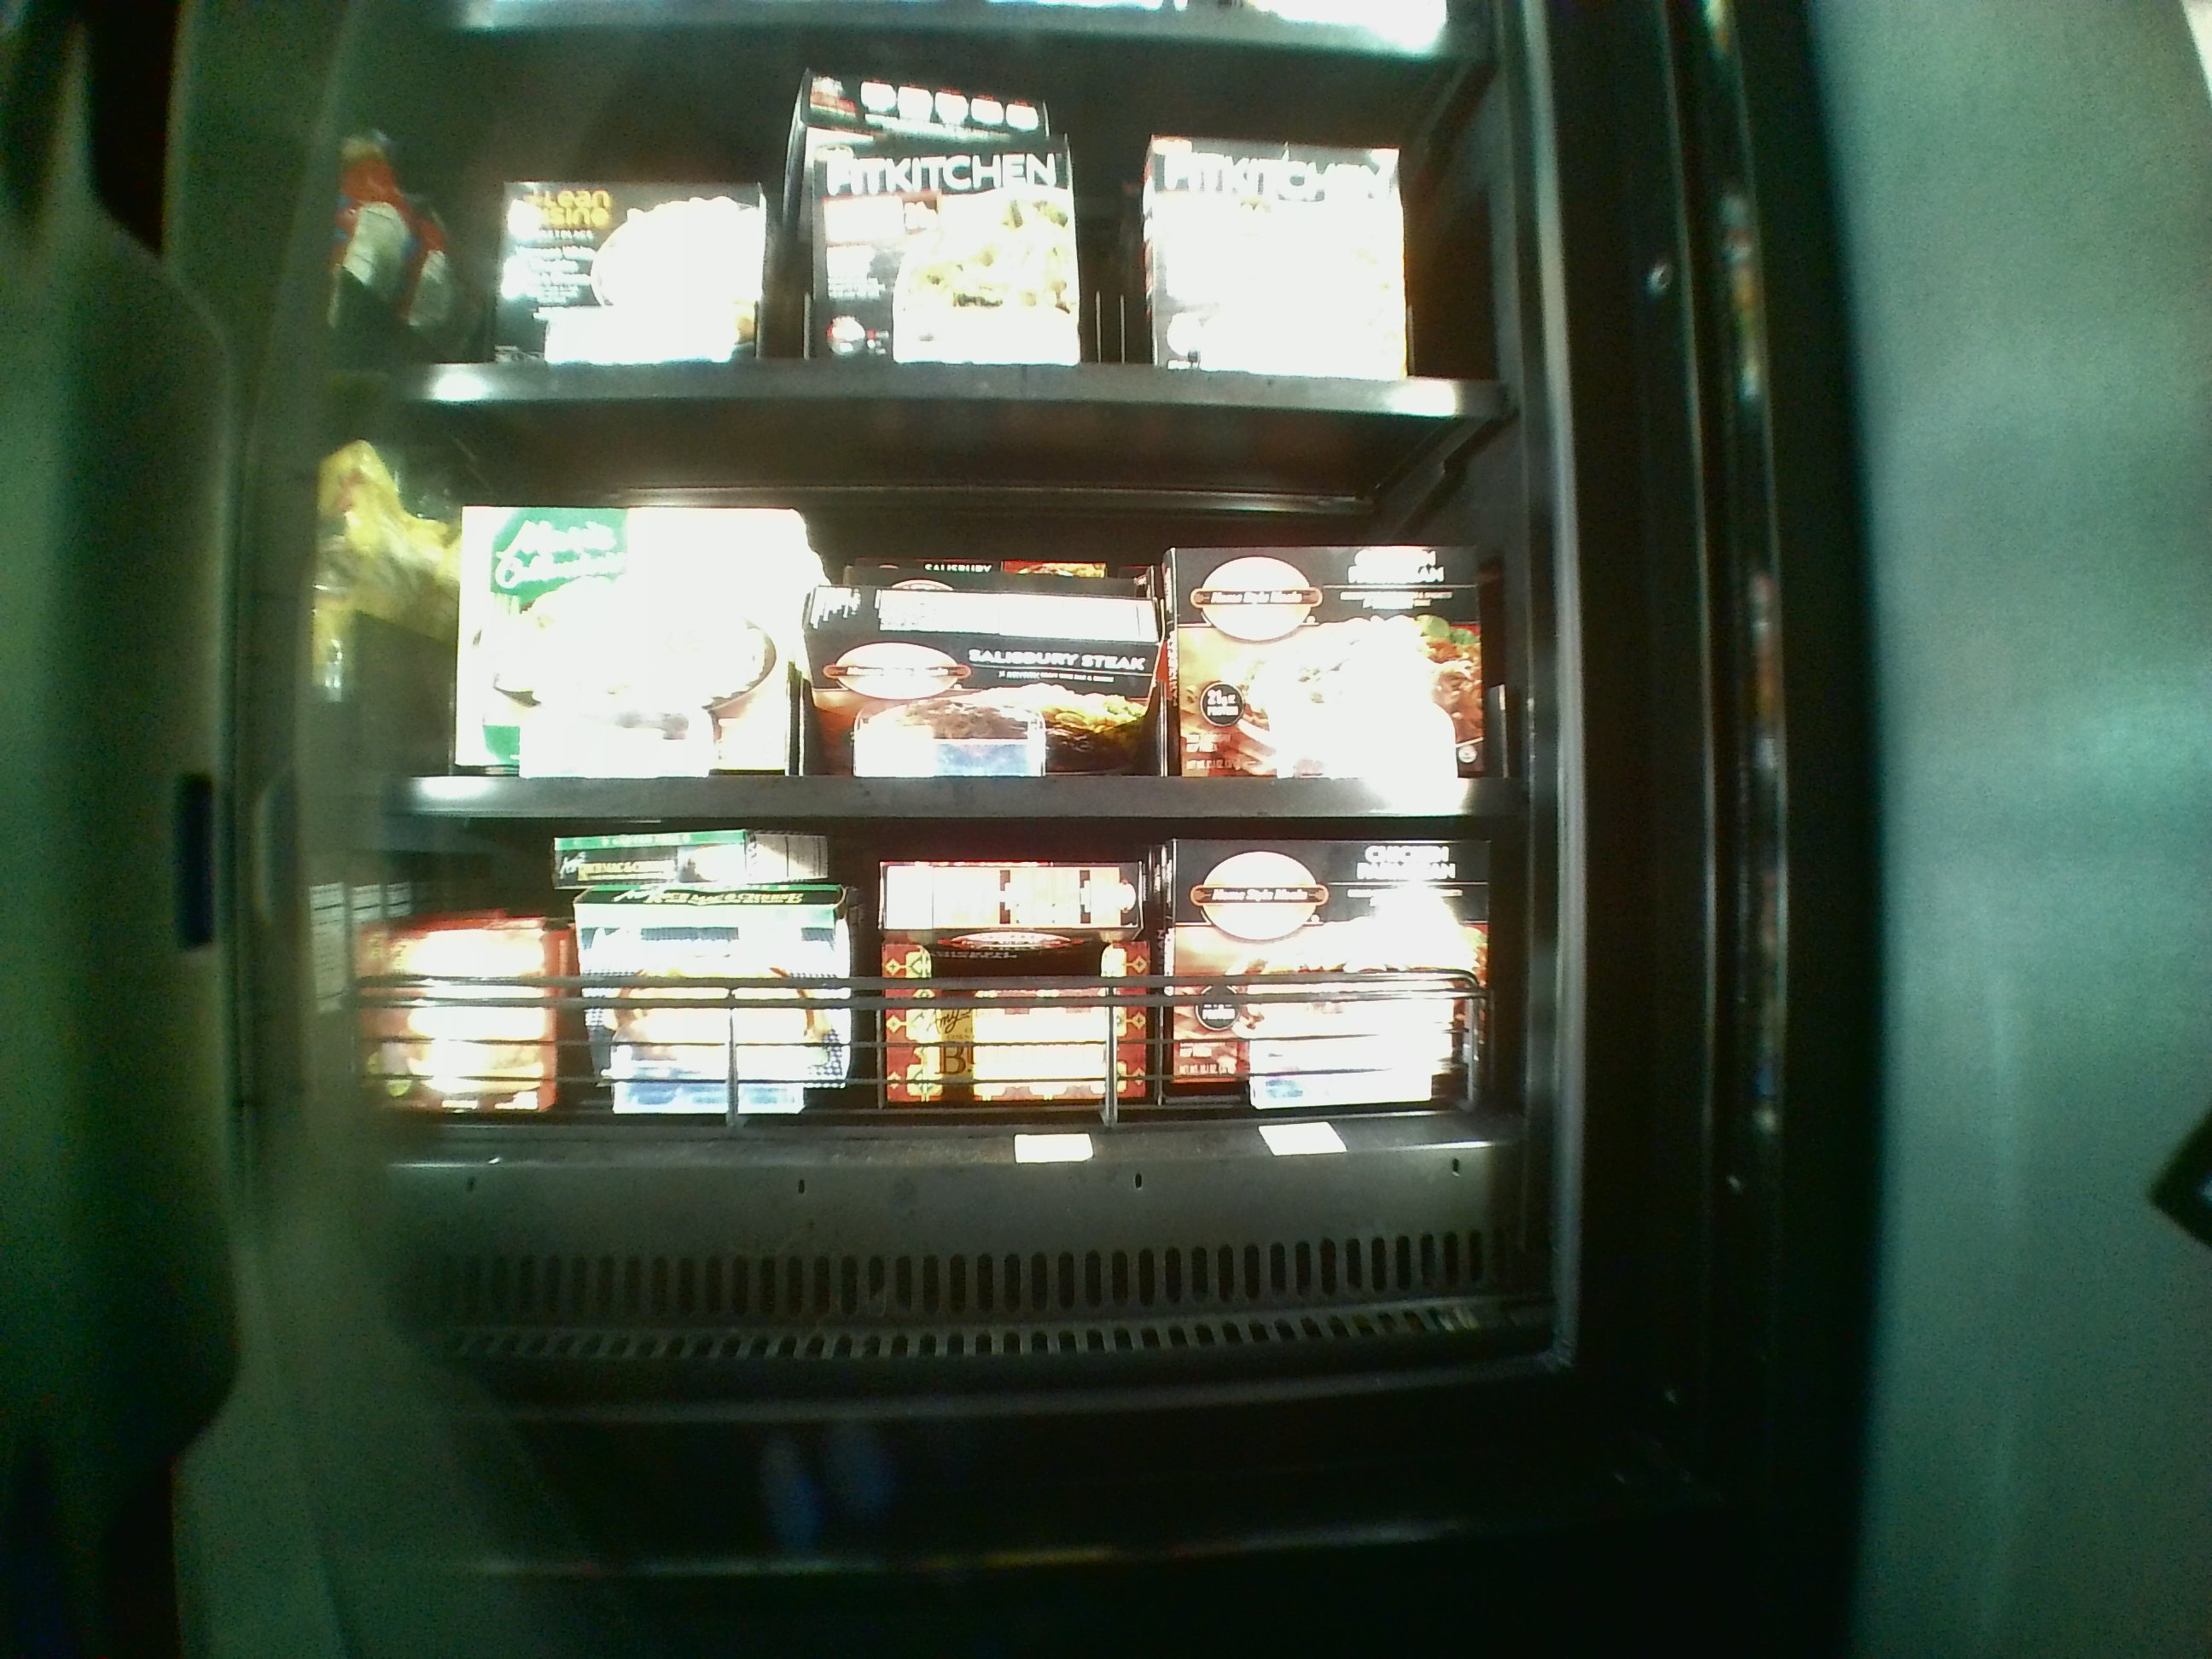shelf: (341, 416, 1514, 819), (340, 836, 1524, 1183)
